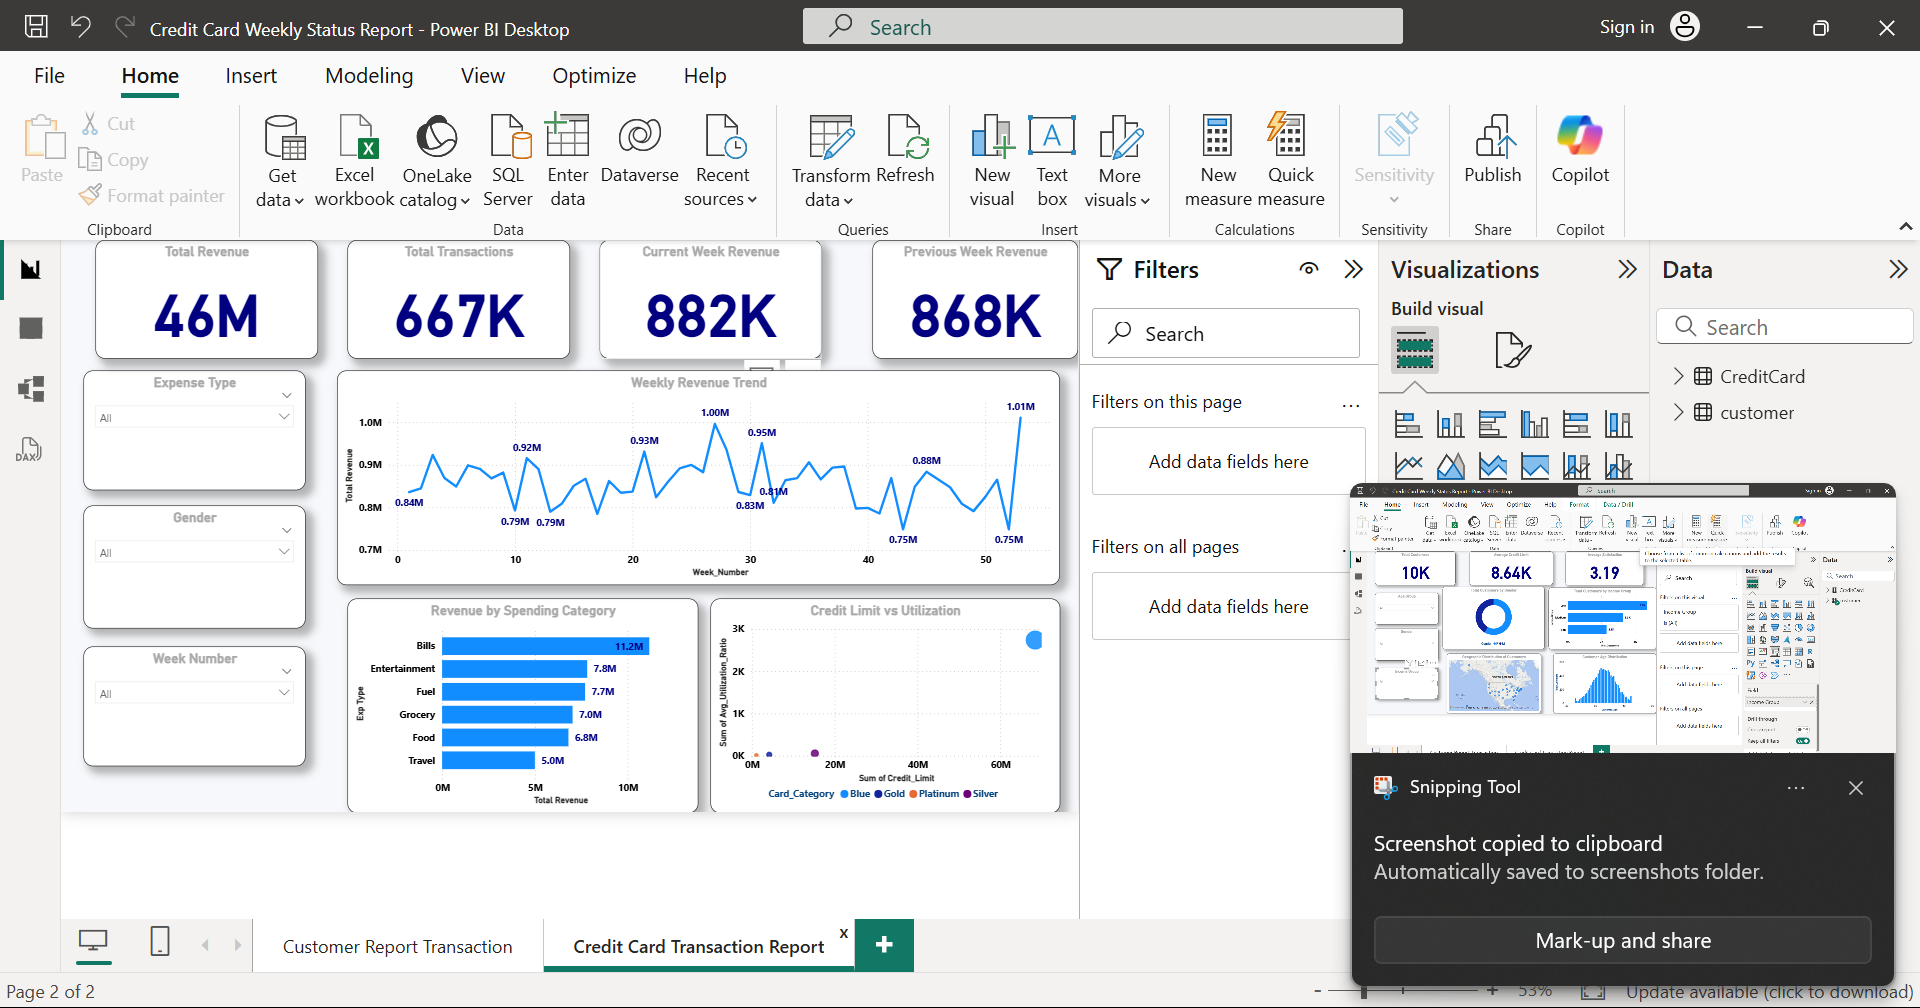

The page's visual inventory and layout, read from the dashboard file:
{"tool":"powerbi","page":{"name":"Credit Card Transaction Report","canvas":[1280,720],"ordinal":1},"visuals":[{"type":"slicer","title":"Gender","fields":{"Values":["customer.Gender"]},"box":[28.3,334,279.3,154.7],"z":0},{"type":"slicer","title":"Week Number","fields":{"Values":["CreditCard.Week_Num"]},"box":[28.3,511.4,279.3,151],"z":1000},{"type":"slicer","title":"Expense Type","fields":{"Values":["CreditCard.Exp Type"]},"box":[28.3,164.2,279.3,151],"z":2000},{"type":"card","title":"Total Revenue","fields":{"Values":["CreditCard.Total Revenue"]},"box":[43.5,0,279.7,149.3],"z":3000},{"type":"card","title":"Total Transactions","fields":{"Values":["CreditCard.Total Transactions"]},"box":[360.9,0,279.7,149.3],"z":4000},{"type":"card","title":"Current Week Revenue","fields":{"Values":["CreditCard.Cur Week Revenue"]},"box":[676.5,0,279.7,149.3],"z":5000},{"type":"card","title":"Previous Week Revenue","fields":{"Values":["CreditCard.Previous Week Revenue"]},"box":[1020.5,0,258.9,149.3],"z":6000},{"type":"clusteredBarChart","title":"Revenue by Spending Category","fields":{"Category":["CreditCard.Exp Type"],"Y":["CreditCard.Total Revenue"]},"box":[360.4,451,441.6,269.8],"z":7000},{"type":"lineChart","title":"Weekly Revenue Trend","fields":{"Y":["CreditCard.Total Revenue"],"Category":["CreditCard.Week_Number"]},"box":[347.2,164.2,909.5,269.8],"z":8000},{"type":"scatterChart","title":"Credit Limit vs Utilization","fields":{"X":["Sum(CreditCard.Credit_Limit)"],"Y":["Sum(CreditCard.Avg_Utilization_Ratio)"],"Size":["CreditCard.Total Revenue"],"Series":["CreditCard.Card_Category"]},"box":[817.1,451,439.7,269.8],"z":9000}]}

Visuals, with their boxes on the page's 1280x720 design canvas (x1, y1, x2, y2). These are canvas units, not pixel positions in the 1920x1008 screenshot, which may show the page scaled, cropped or inside an application window:
"Gender" slicer: {"left": 28, "top": 334, "right": 308, "bottom": 489}
"Week Number" slicer: {"left": 28, "top": 511, "right": 308, "bottom": 662}
"Expense Type" slicer: {"left": 28, "top": 164, "right": 308, "bottom": 315}
"Total Revenue" card: {"left": 44, "top": 0, "right": 323, "bottom": 149}
"Total Transactions" card: {"left": 361, "top": 0, "right": 641, "bottom": 149}
"Current Week Revenue" card: {"left": 676, "top": 0, "right": 956, "bottom": 149}
"Previous Week Revenue" card: {"left": 1020, "top": 0, "right": 1279, "bottom": 149}
"Revenue by Spending Category" clusteredBarChart: {"left": 360, "top": 451, "right": 802, "bottom": 721}
"Weekly Revenue Trend" lineChart: {"left": 347, "top": 164, "right": 1257, "bottom": 434}
"Credit Limit vs Utilization" scatterChart: {"left": 817, "top": 451, "right": 1257, "bottom": 721}
